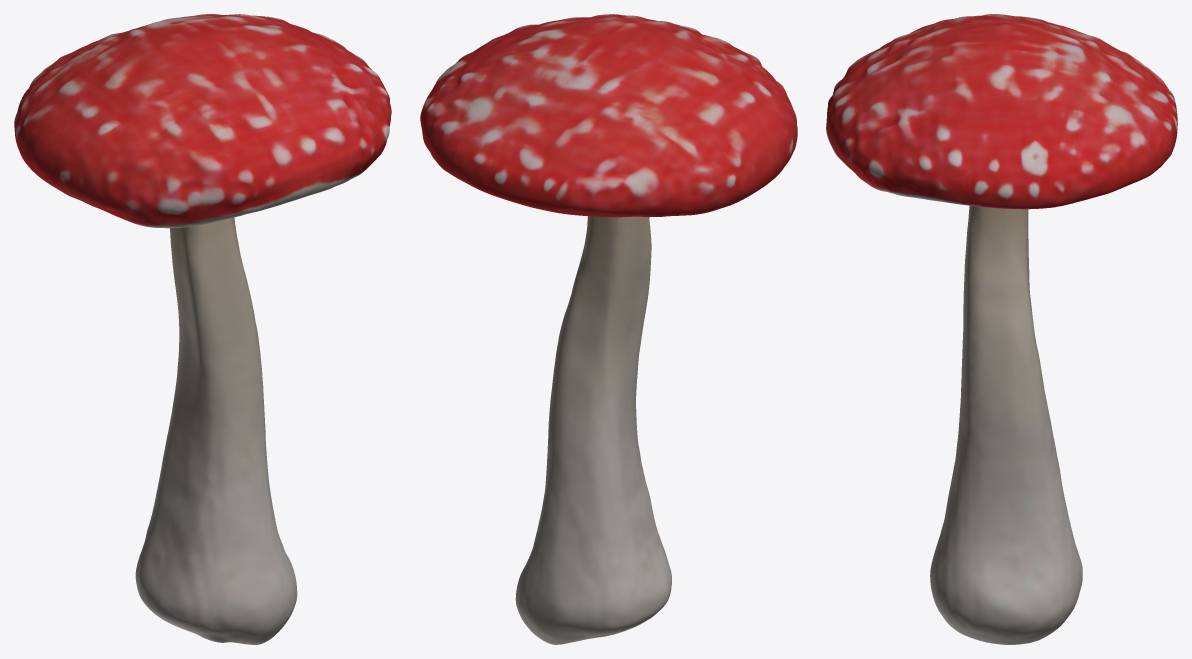
Rendered from 0067b0d4b01d_red_wavy_mushroom__.fbx.
3 views of the same model, side by side, from view 1: azimuth 30°, elevation 25°; view 2: azimuth 150°, elevation 25°; view 3: azimuth 270°, elevation 25° (orthographic). The views are drawn at different scales.
Visible parts, largest first — view 1: high_poly; view 2: high_poly; view 3: high_poly.
Part boxes in pixels (x1,y1,x2,y2): high_poly: (14, 14, 391, 644); high_poly: (420, 14, 797, 644); high_poly: (826, 14, 1177, 644).
Size of the model in its own units: 57.02 by 100 by 54.69.
